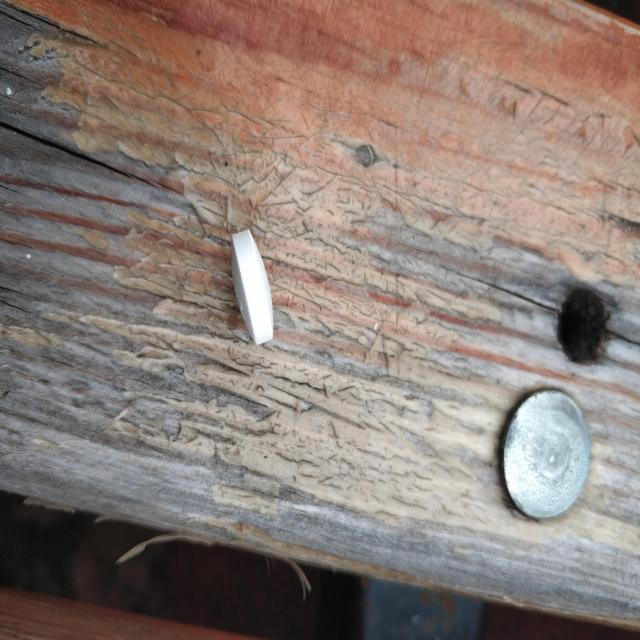pill: (229, 220, 279, 346)
